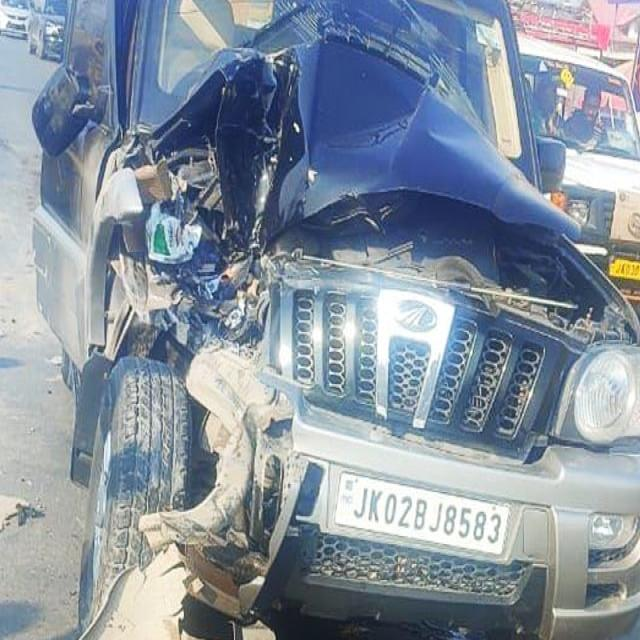accident: (34, 0, 640, 636)
